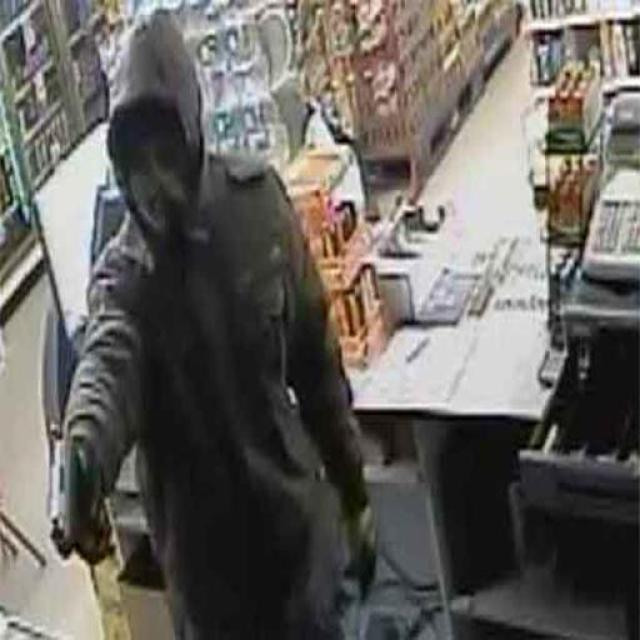pistol: (44, 436, 105, 555)
